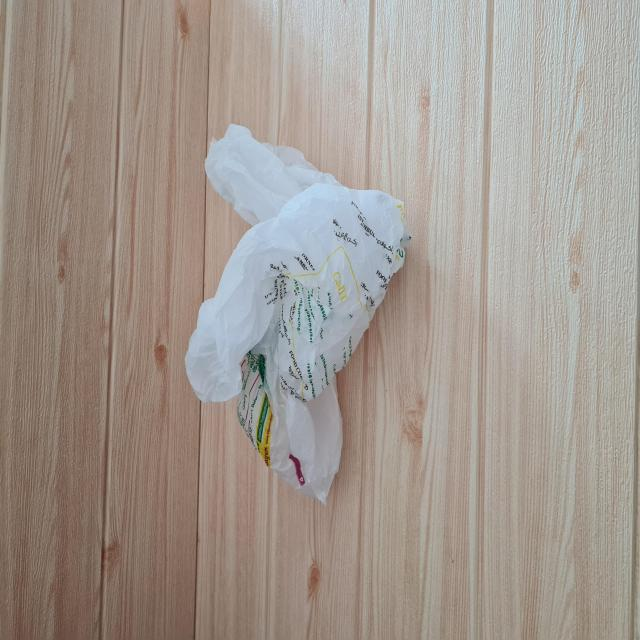plastic bag: (182, 124, 412, 507)
